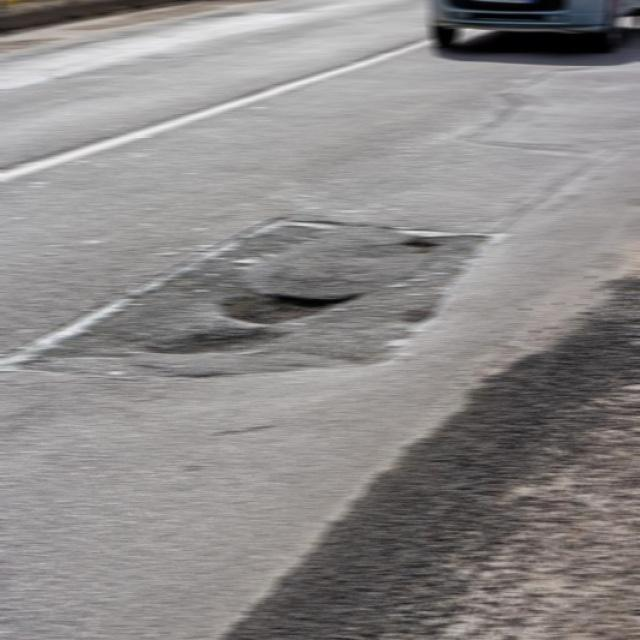Pothole: (146, 284, 364, 364), (364, 222, 447, 256)
